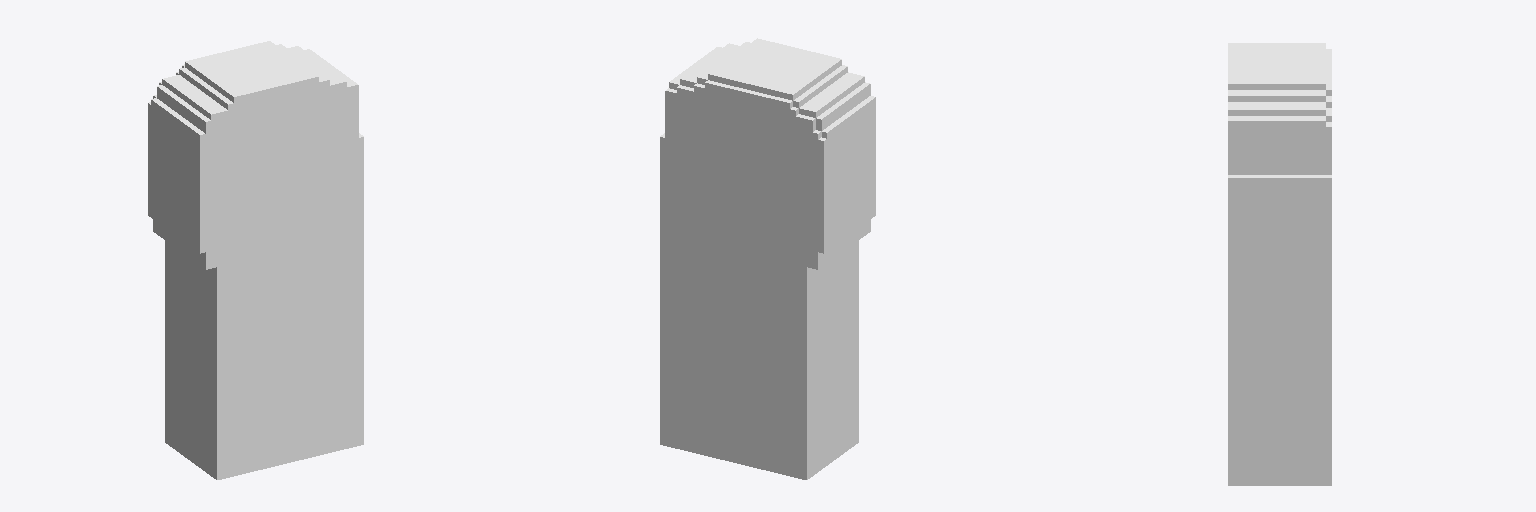
Rendered from Bezi.obj.
3 views of the same model, side by side, from view 1: azimuth 30°, elevation 25°; view 2: azimuth 150°, elevation 25°; view 3: azimuth 270°, elevation 25° (orthographic).
Visible parts, largest first — view 1: object 1; view 2: object 1; view 3: object 1.
Part boxes in pixels (left/top/right/bottom): object 1: left=148, top=41, right=363, bottom=479; object 1: left=660, top=38, right=875, bottom=479; object 1: left=1228, top=43, right=1331, bottom=485.
Size of the model in its own units: 2.9 by 6.4 by 1.6.